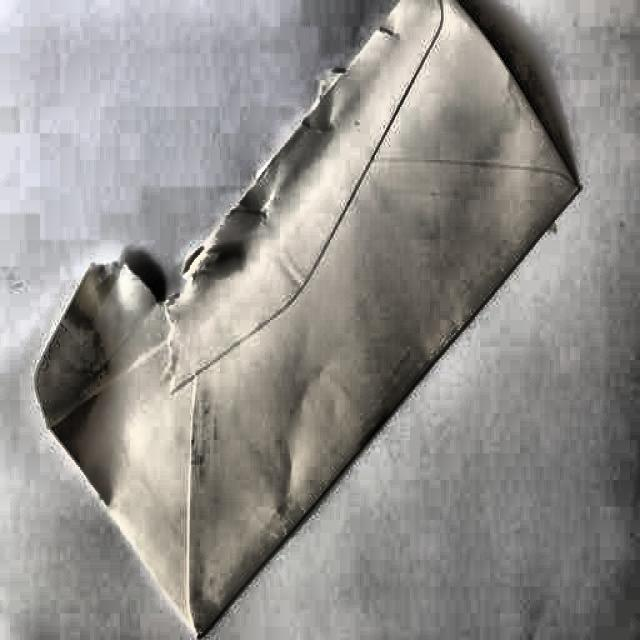paper: (10, 0, 585, 635)
